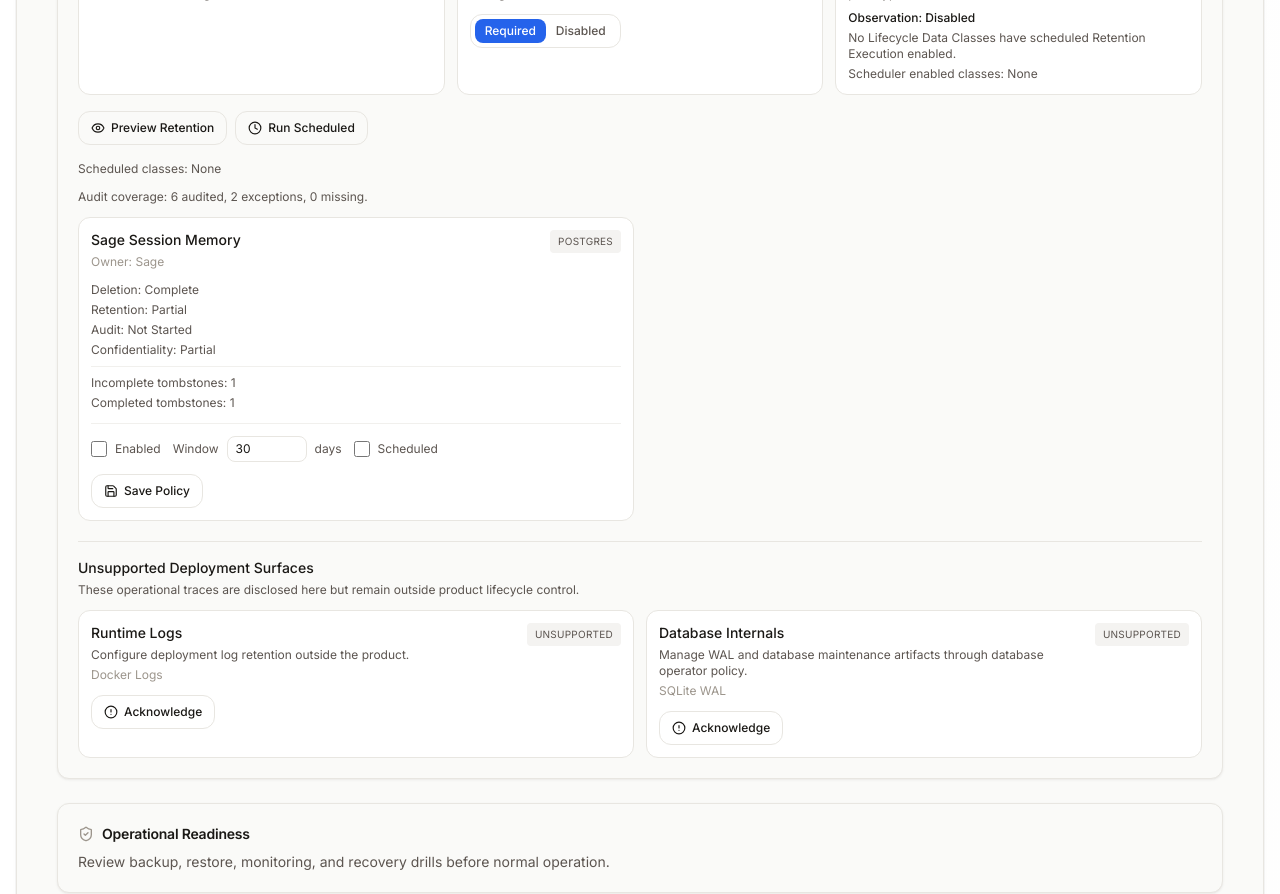
AdminDeploymentConfig › lets admins edit retention policy for a lifecycle data class
(page scrolled)
Check: the text "Sage Session Memory" is shown, box [91, 231, 241, 248]
Click the checkbox labelled "Enabled".
click(99, 449)  # box [91, 441, 107, 457]
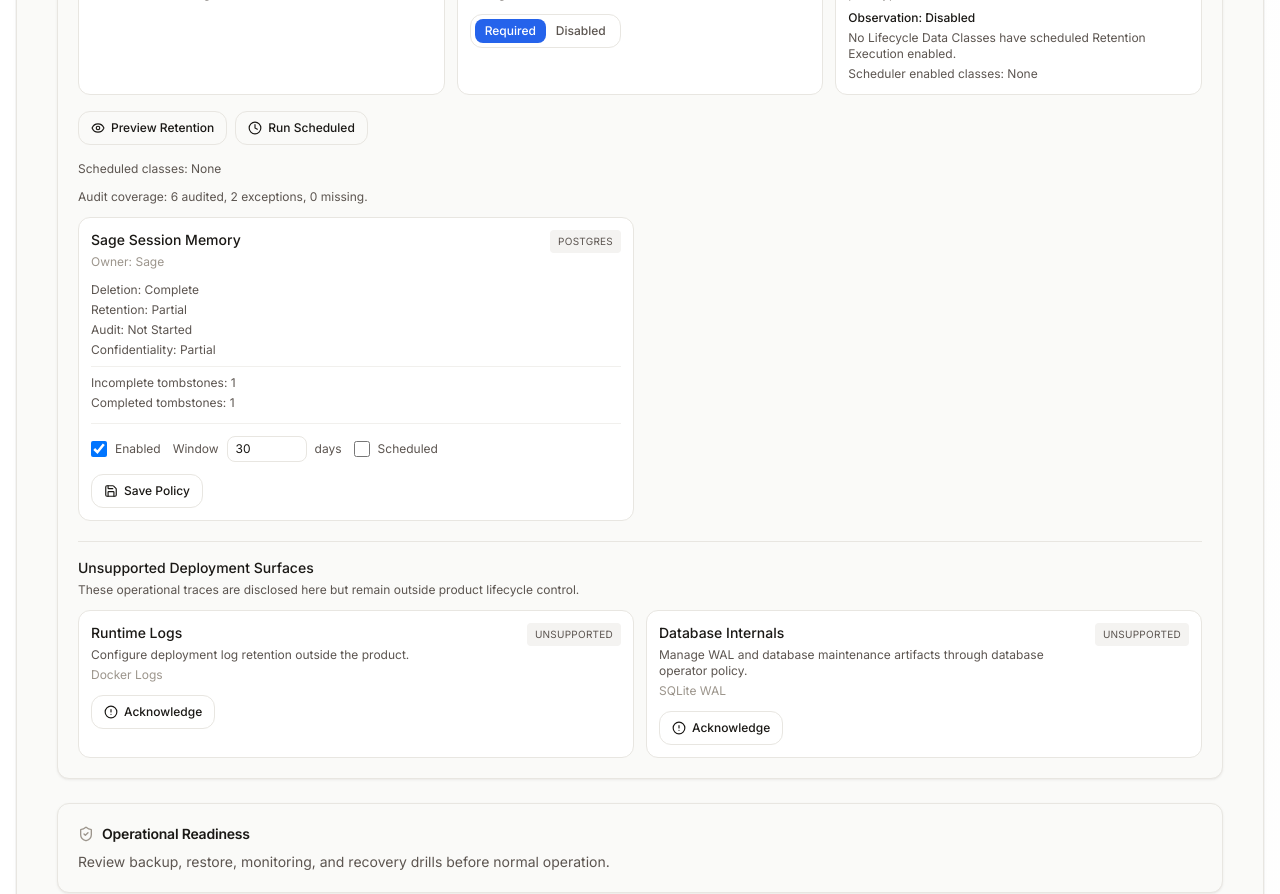
Replace the text in the number field labelled "Window days" with "45" at (267, 449), box [227, 436, 307, 462]
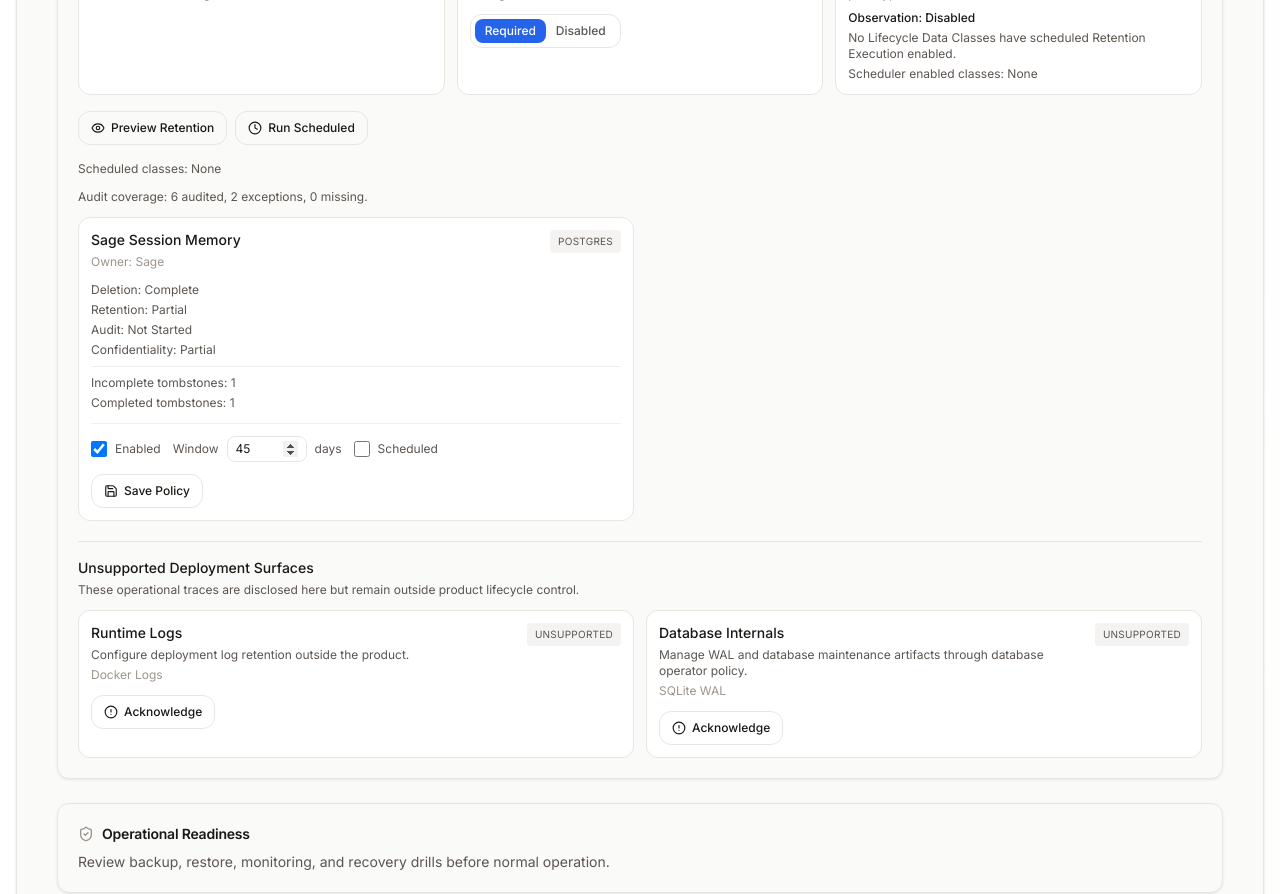
Click the checkbox labelled "Scheduled".
click(362, 449)  # box [354, 441, 370, 457]
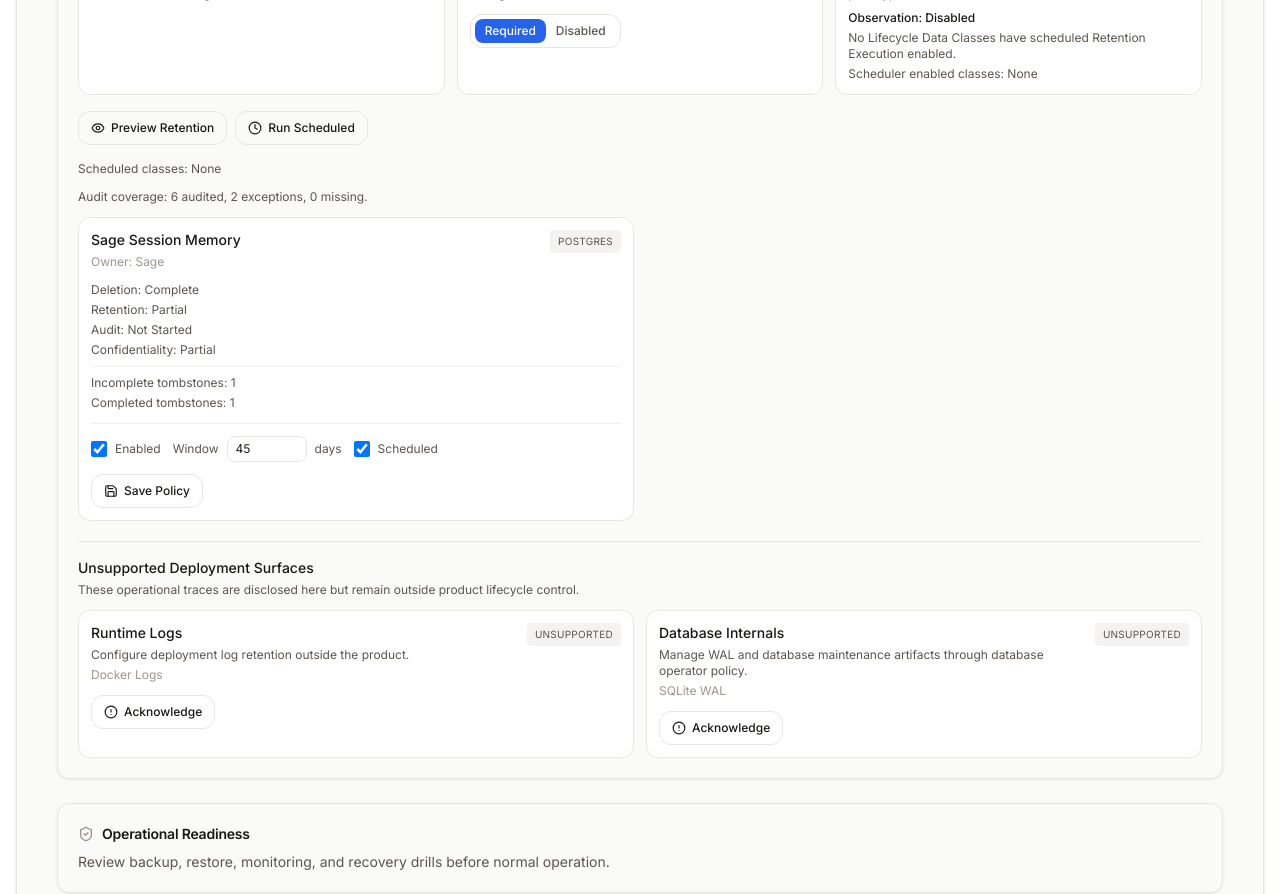
Click the button "Save Policy".
click(147, 491)  # box [91, 474, 203, 508]
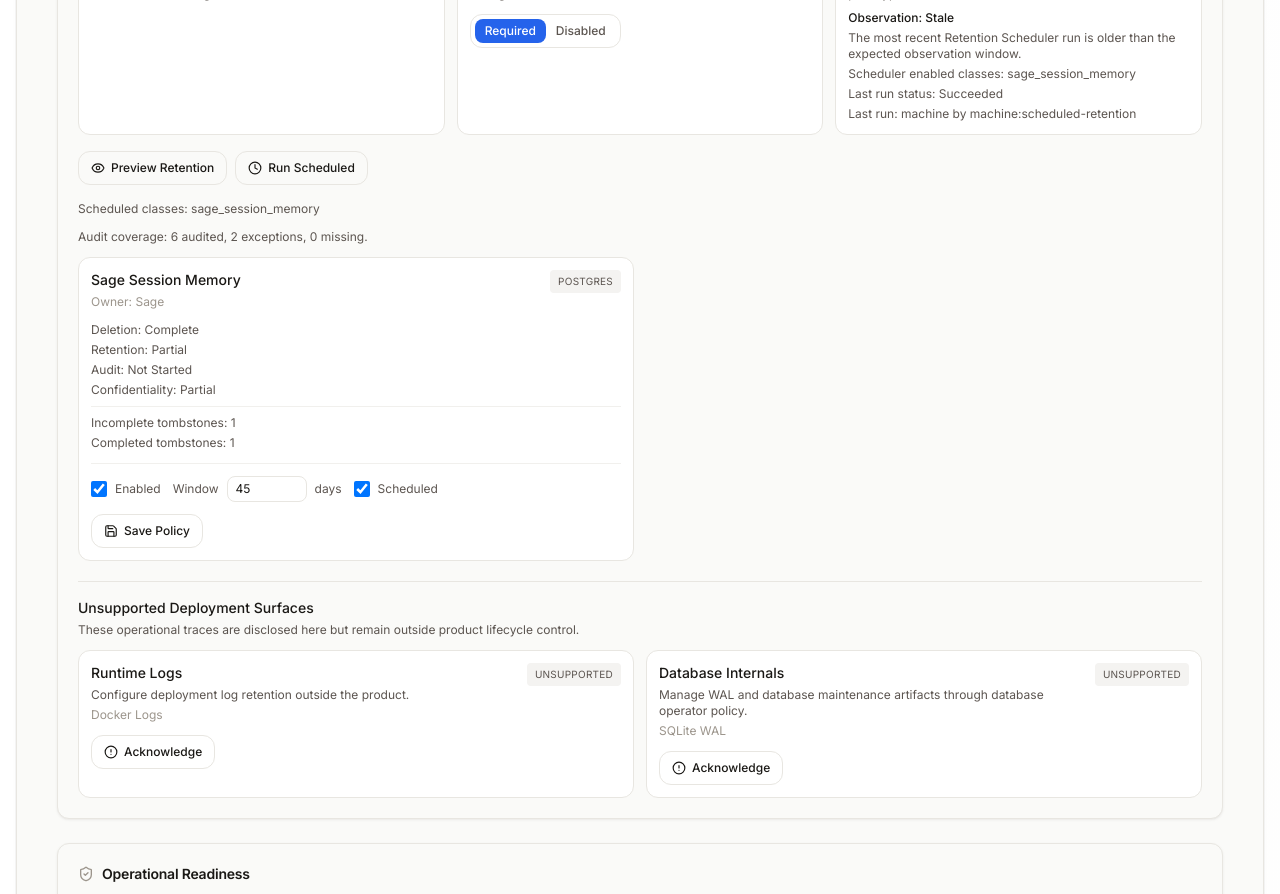
Check: the text "Scheduler enabled classes: sage_session_memory" is shown, box [848, 66, 1136, 81]
Check: the text "Last run status: Succeeded" is shown, box [848, 86, 1003, 101]
